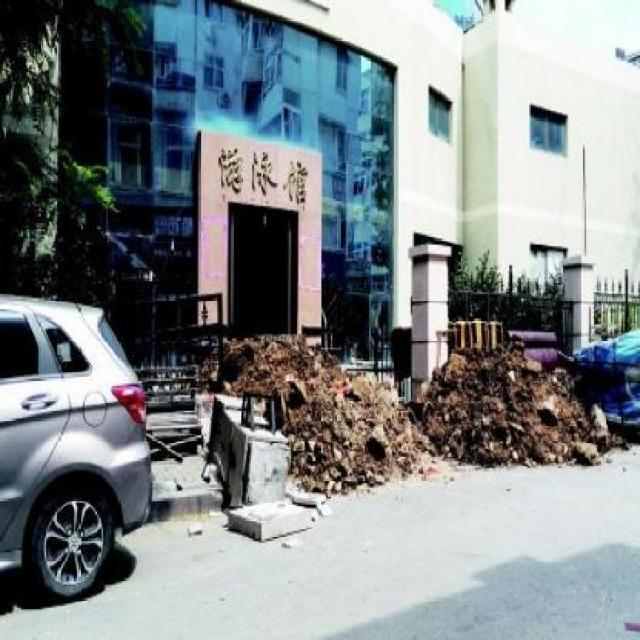garbage: (234, 333, 603, 476)
